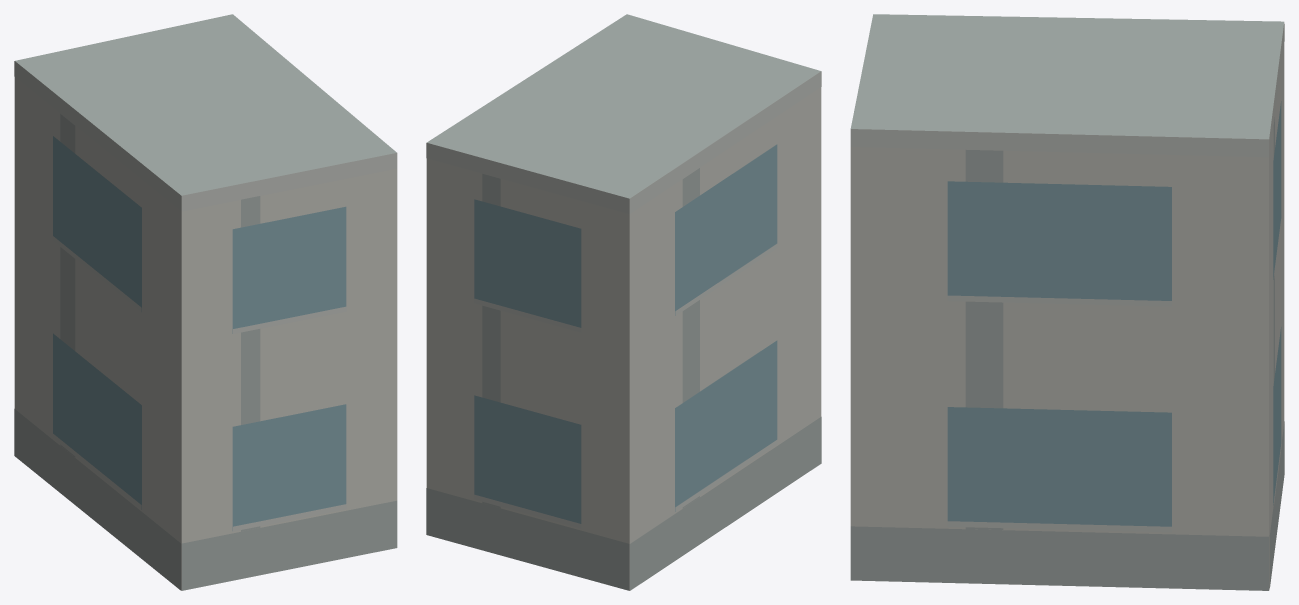
The model's file is survey-upis-32704470.glb.
The picture shows the model from 3 angles, left to right: view 1: azimuth 30°, elevation 25°; view 2: azimuth 150°, elevation 25°; view 3: azimuth 270°, elevation 25°; orthographic projection. The views are drawn at different scales.
Visible parts, largest first — view 1: survey-upis-32704470.tmp; view 2: survey-upis-32704470.tmp; view 3: survey-upis-32704470.tmp.
Part boxes in pixels (x1=…): survey-upis-32704470.tmp: x1=14, y1=14, x2=397, y2=590; survey-upis-32704470.tmp: x1=426, y1=14, x2=821, y2=590; survey-upis-32704470.tmp: x1=850, y1=14, x2=1284, y2=590.
Size of the model in its own units: 3.64 by 6.1 by 5.32.
